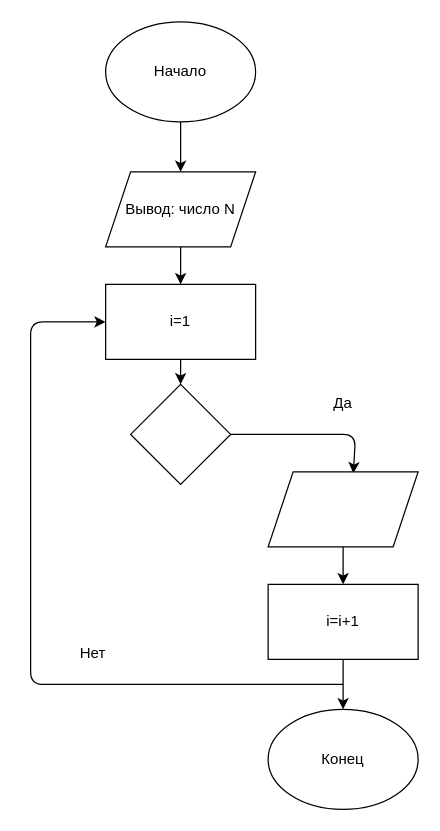
Image size: 440x831. Some labels were removed from this diagram. Here are the shapes that lost their labels. From the top down, the box of each, then its label:
(129, 383, 231, 484): i<=10?
(267, 471, 418, 547): Вывод:N*i=N*i
